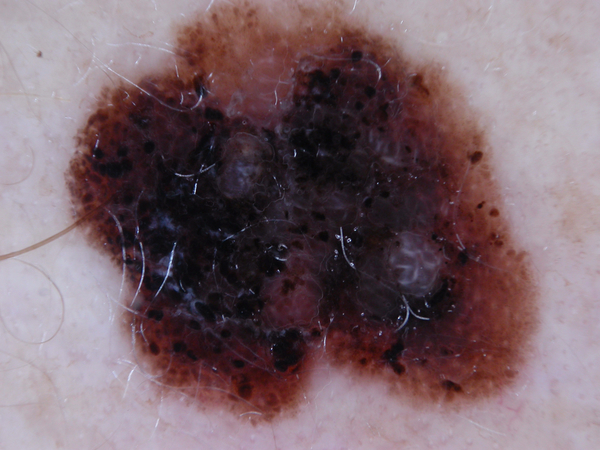Detected Lesion: (61, 1, 545, 425)
